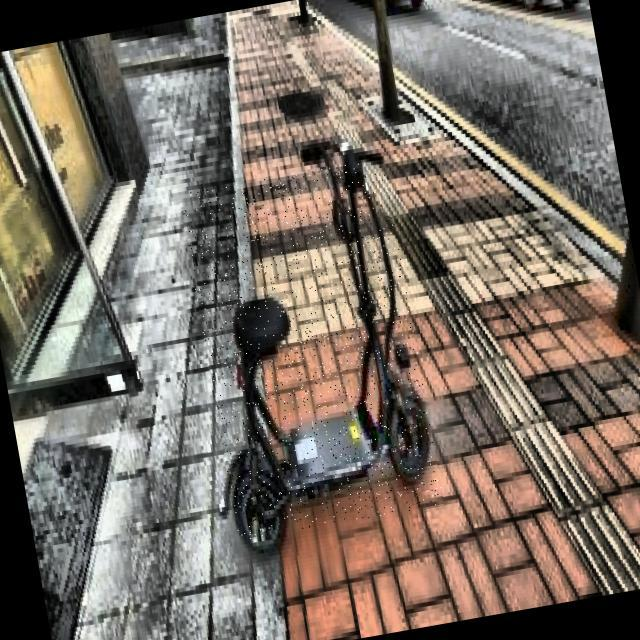bike: (230, 295, 430, 554)
